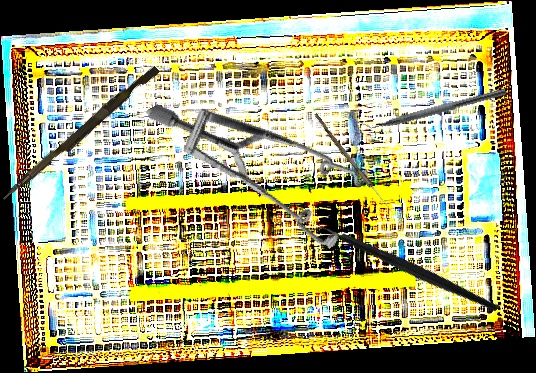Chopper: (304, 170, 502, 369), (358, 77, 507, 137)
Pusher: (1, 61, 160, 207)
Speculum: (145, 30, 392, 294)
Surgical Spoon: (311, 112, 395, 214)
